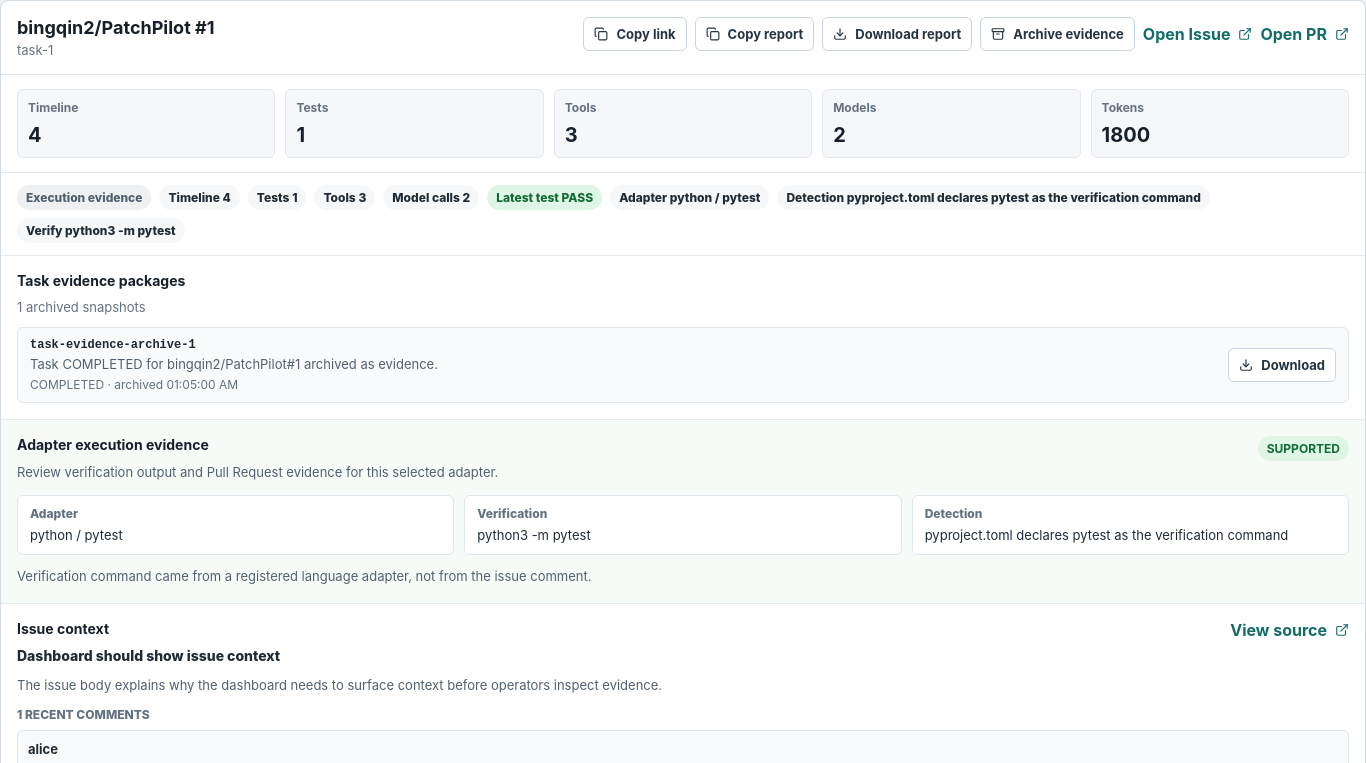
Test: downloads archives and re-downloads selected task evidence packages
Click the button "Download report".
click(897, 34)  # box [822,17,972,51]
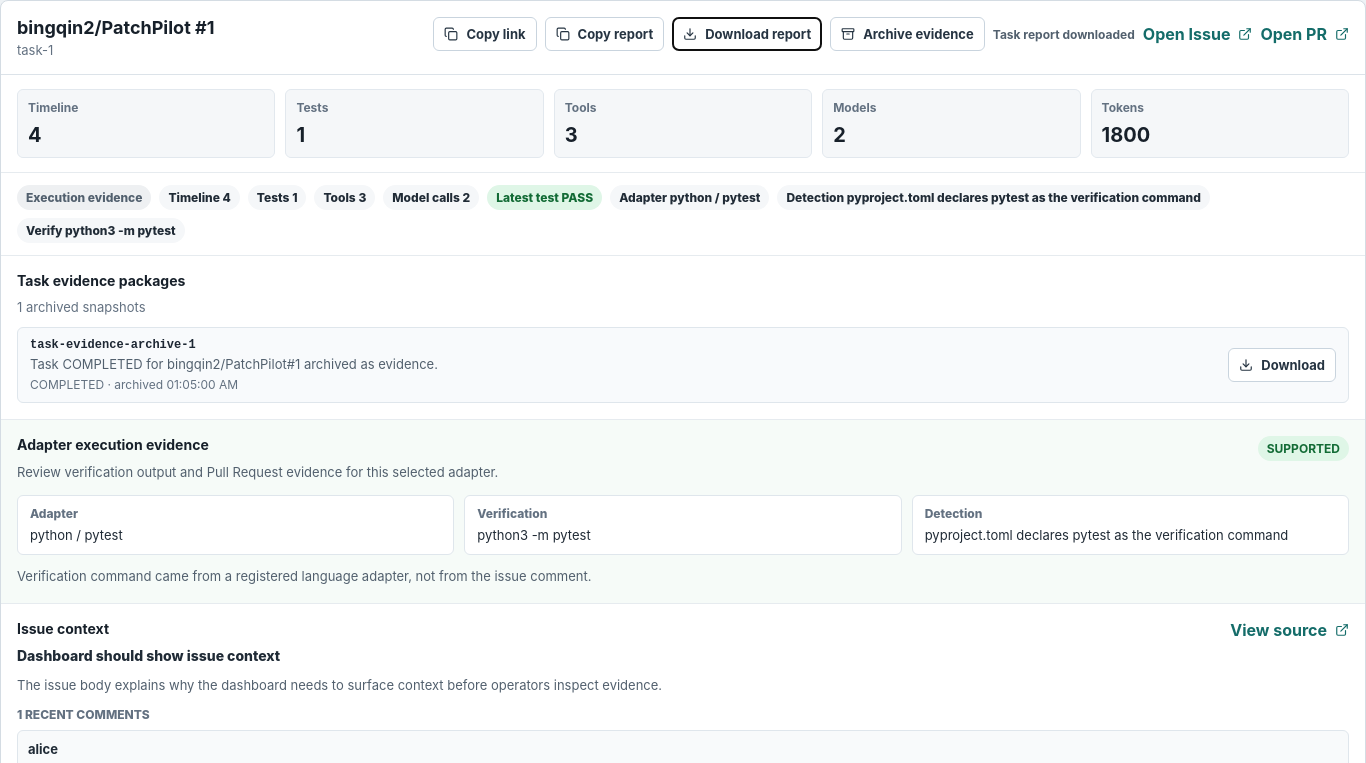
Expected: the text "Task report downloaded" is shown, [993,26,1135,42]
Click the button "Archive evidence".
click(908, 34)  # box [830,17,985,51]
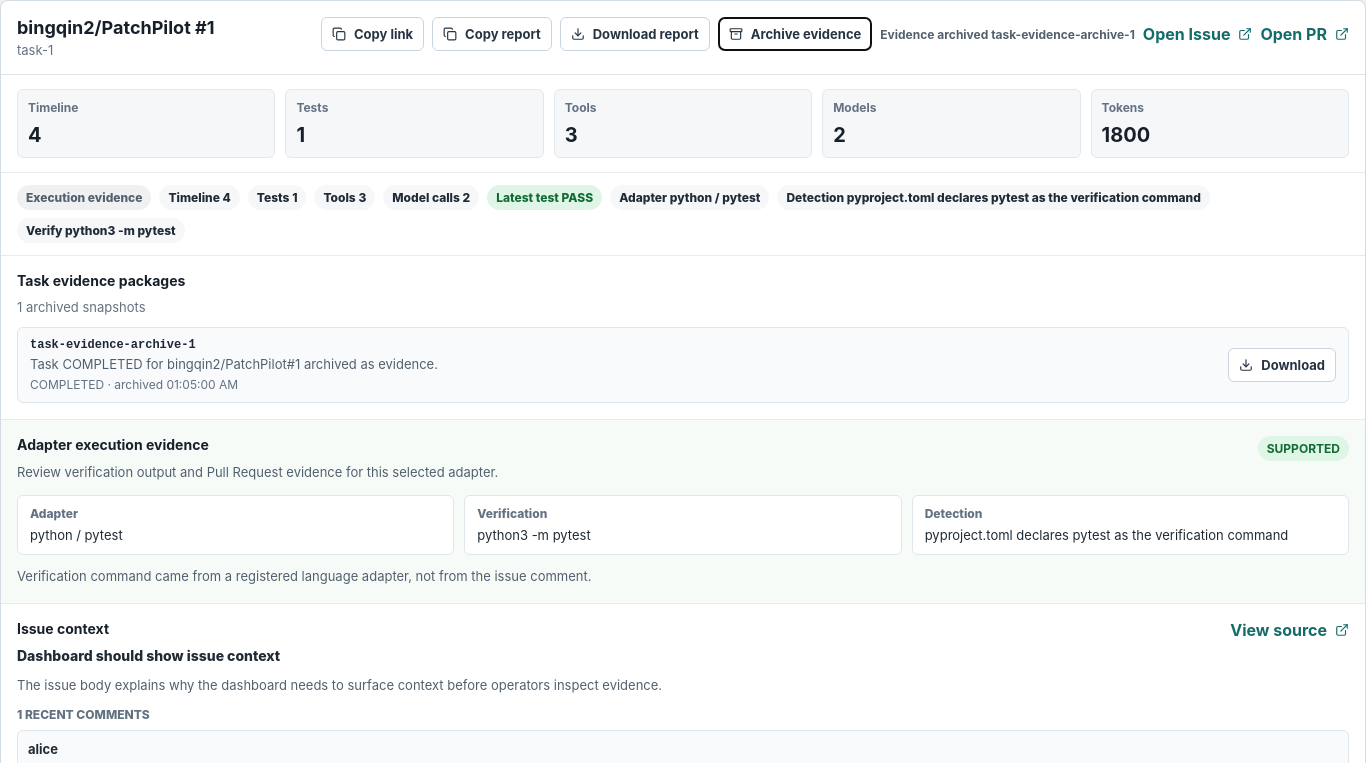
Expected: the heading "Task evidence packages" is shown, [17,272,185,289]
Expected: the text "Evidence archived task-evidence-archive-1" is shown, [880,26,1135,42]
Click the button with aria-label "Download archived evidence task-evidence-archive-1".
click(1282, 365)  # box [1228,348,1336,382]
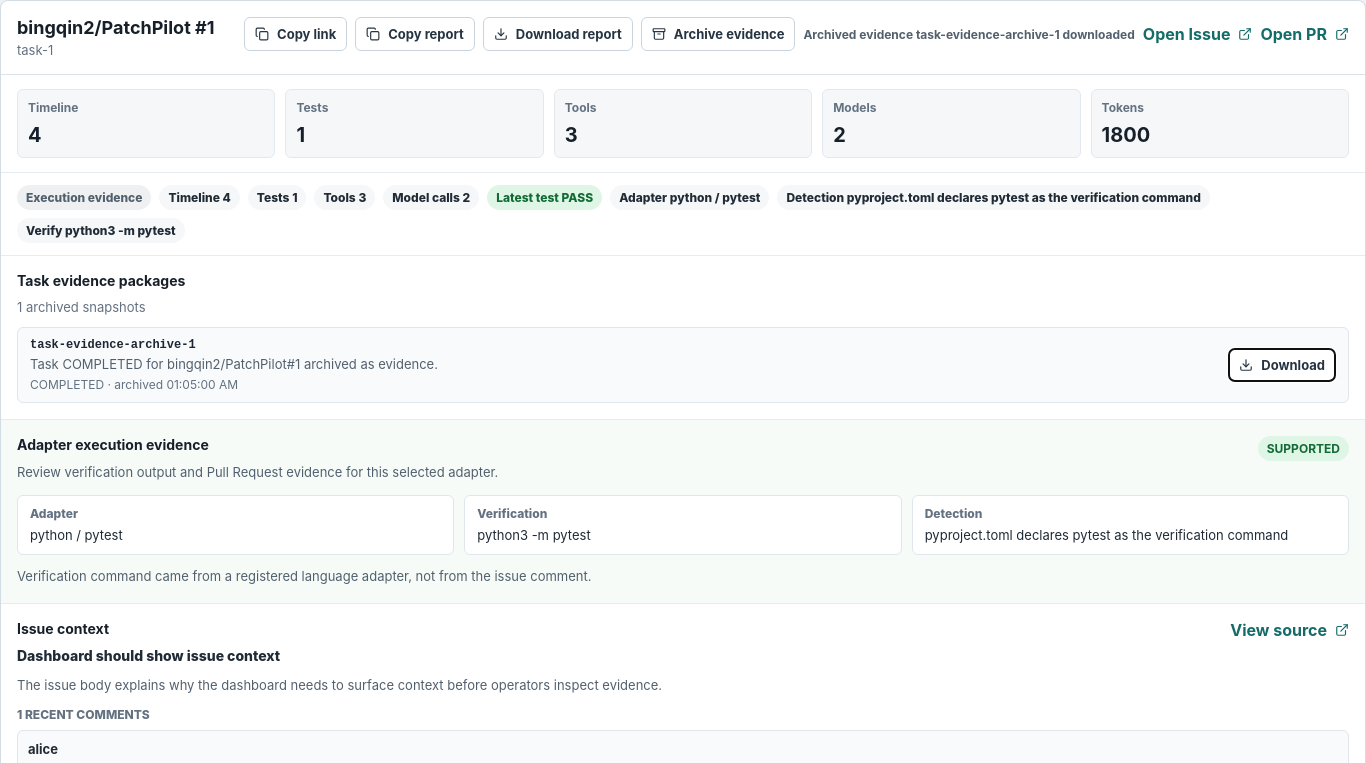
Expected: the text "Archived evidence task-evidence-archive-1 downloaded" is shown, [803,26,1135,42]
